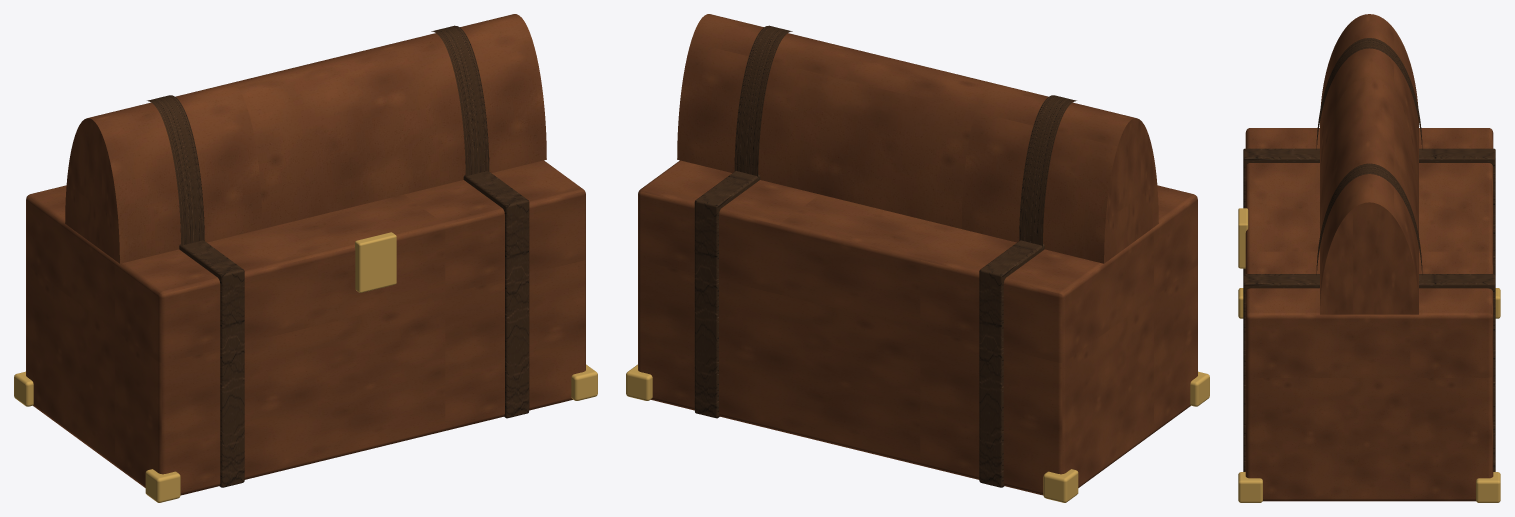
File: bau-viagem-couro.glb
3 renders of one model, left to right at view 1: azimuth 30°, elevation 25°; view 2: azimuth 150°, elevation 25°; view 3: azimuth 270°, elevation 25°, orthographic. The views are drawn at different scales.
Visible parts, largest first — view 1: trunk; view 2: trunk; view 3: trunk.
Boxes of the visible parts, x1,y1,x2,y2 form: trunk: [14, 14, 597, 502]; trunk: [626, 14, 1209, 502]; trunk: [1238, 14, 1500, 502].
Size of the model in its own units: 0.93 by 0.675 by 0.53.
Materials: 3 (2 with a texture image).
